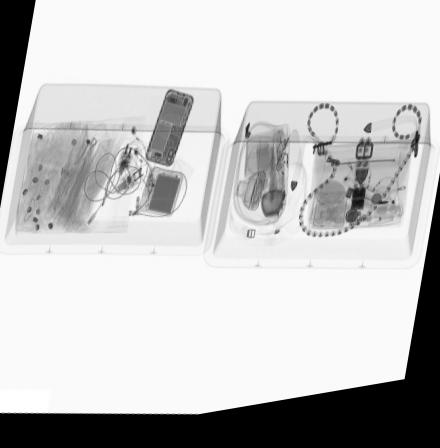Powerbank: (137, 173, 185, 224)
